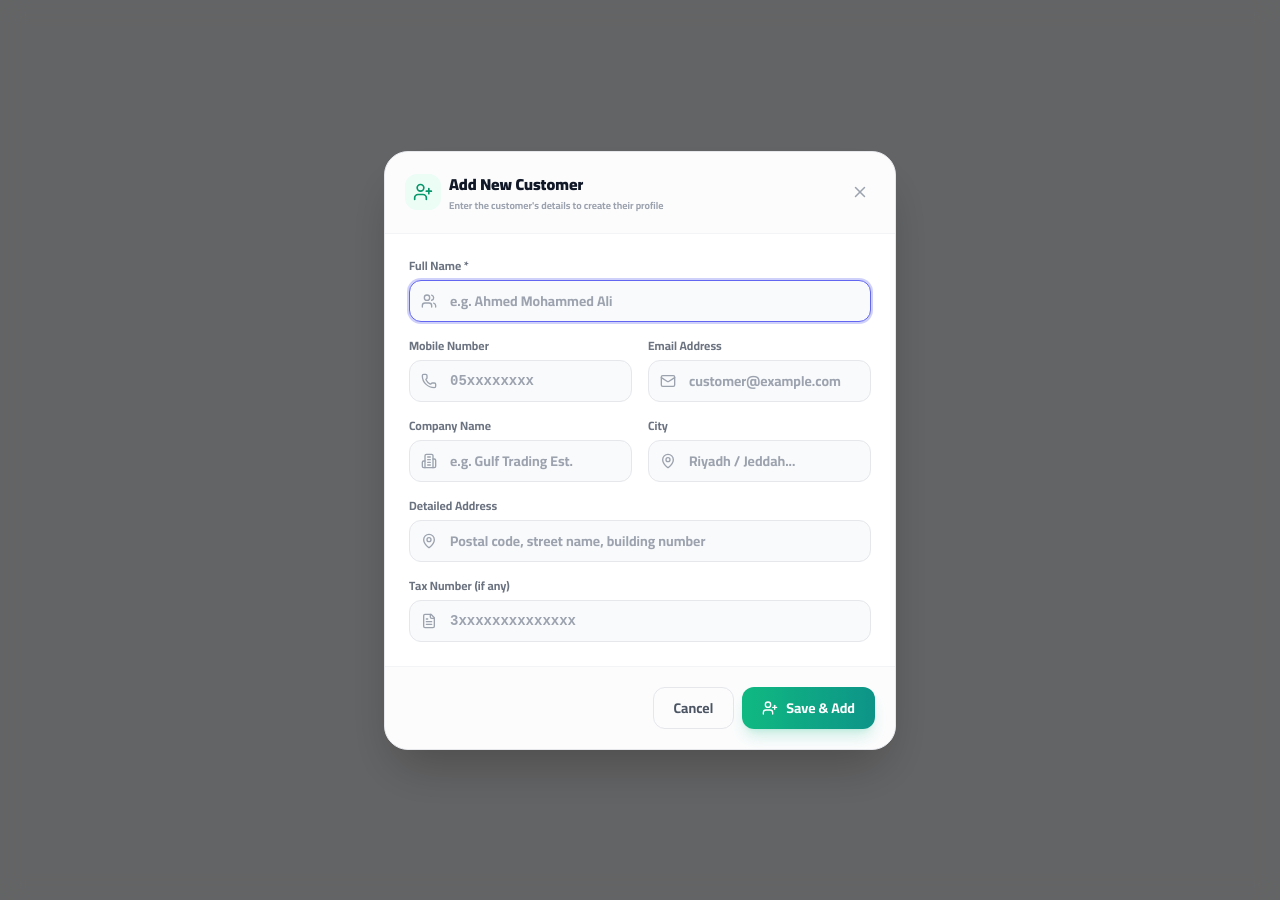
Test: QuickAddCustomerModal — the shared «إضافة عميل جديد» form › a Backend validation error on the e-mail is shown as the e-mail message (EN)
The width and height of the screenshot is (1280, 900).
Type "Elite" into the field with placeholder "e.g. Ahmed Mohammed Ali" at (640, 300), box [409, 280, 871, 322]
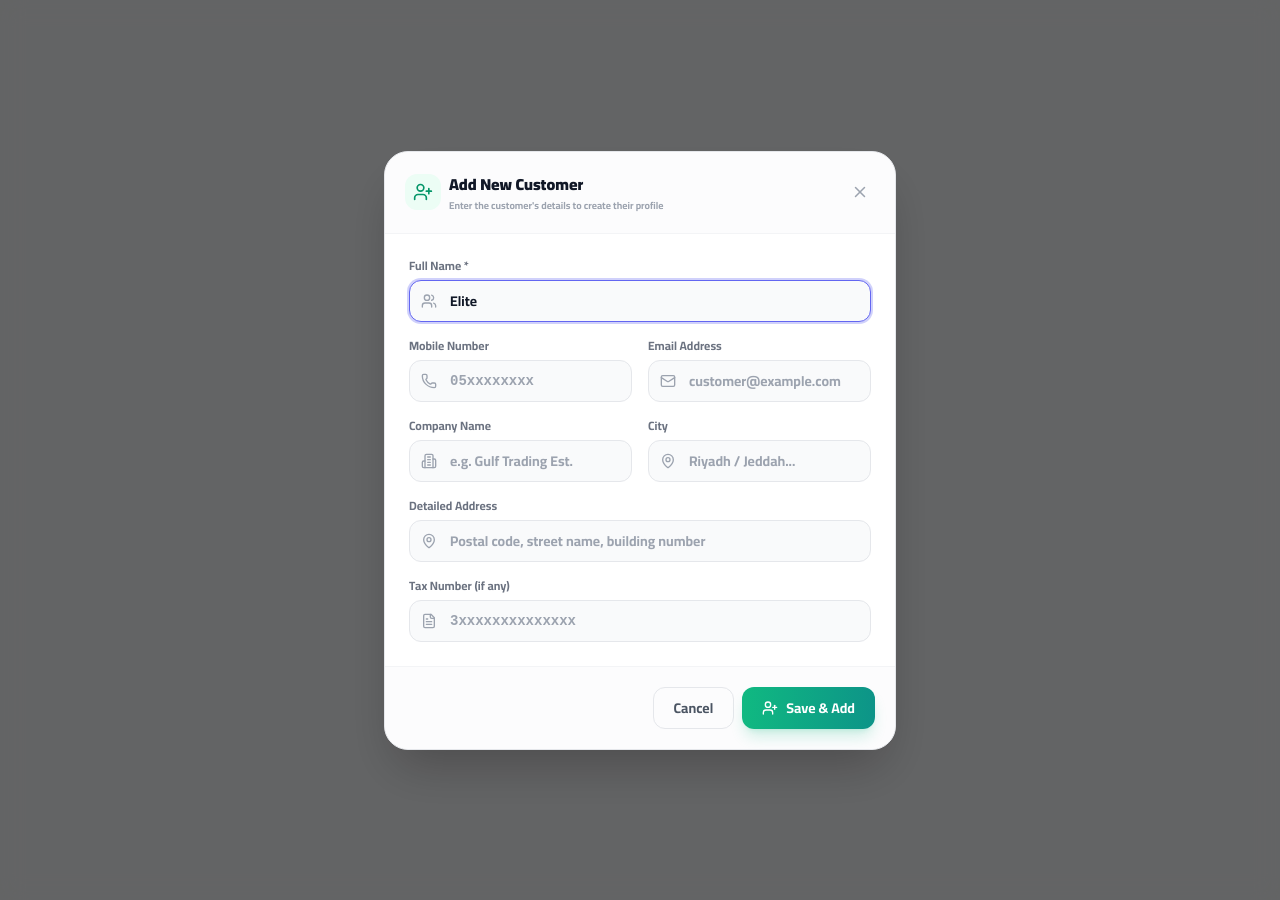
Type "a@b.co" into the field with placeholder "customer@example.com" at (760, 380), box [648, 360, 871, 402]
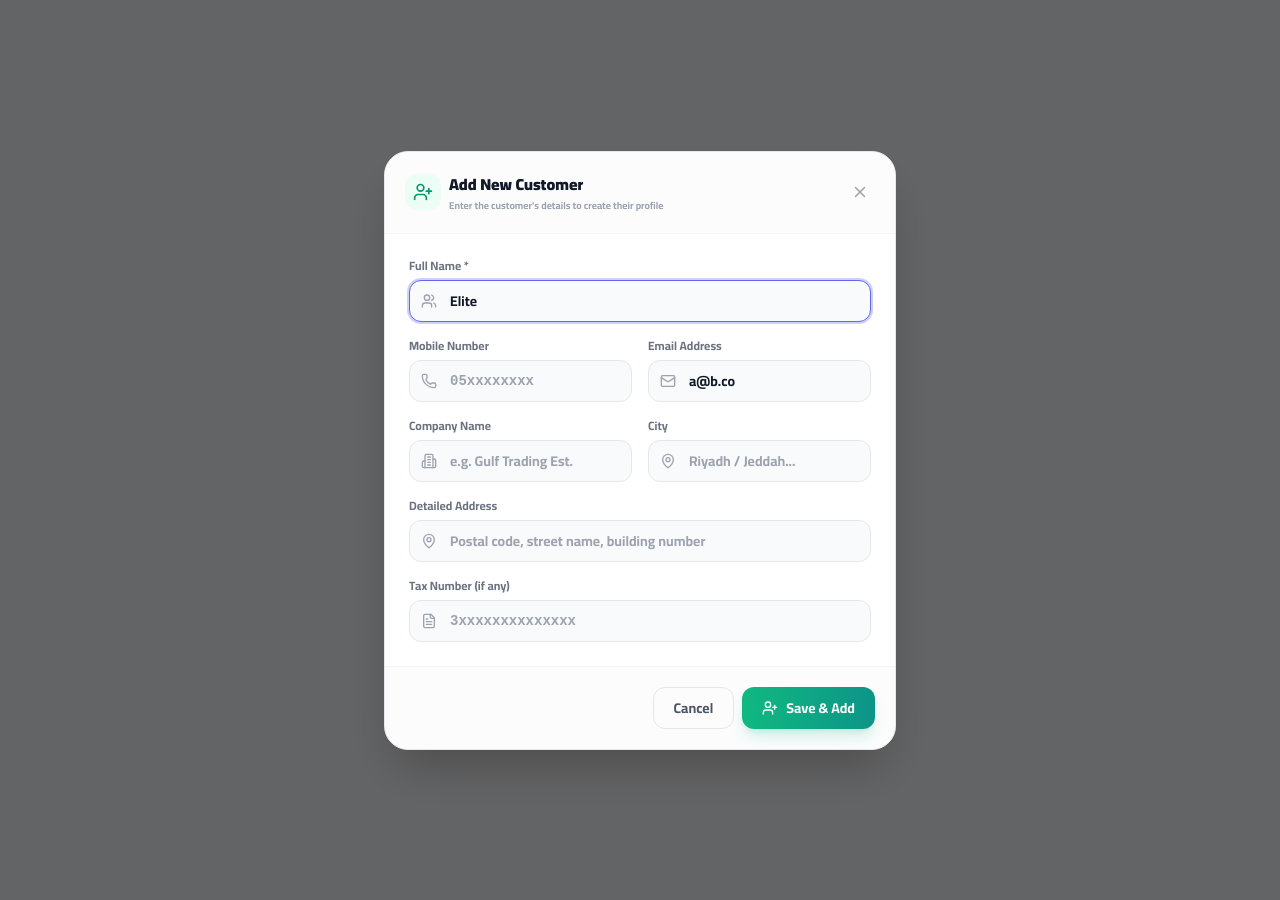
Click the button "Save & Add" at (809, 708), box [742, 686, 875, 728]
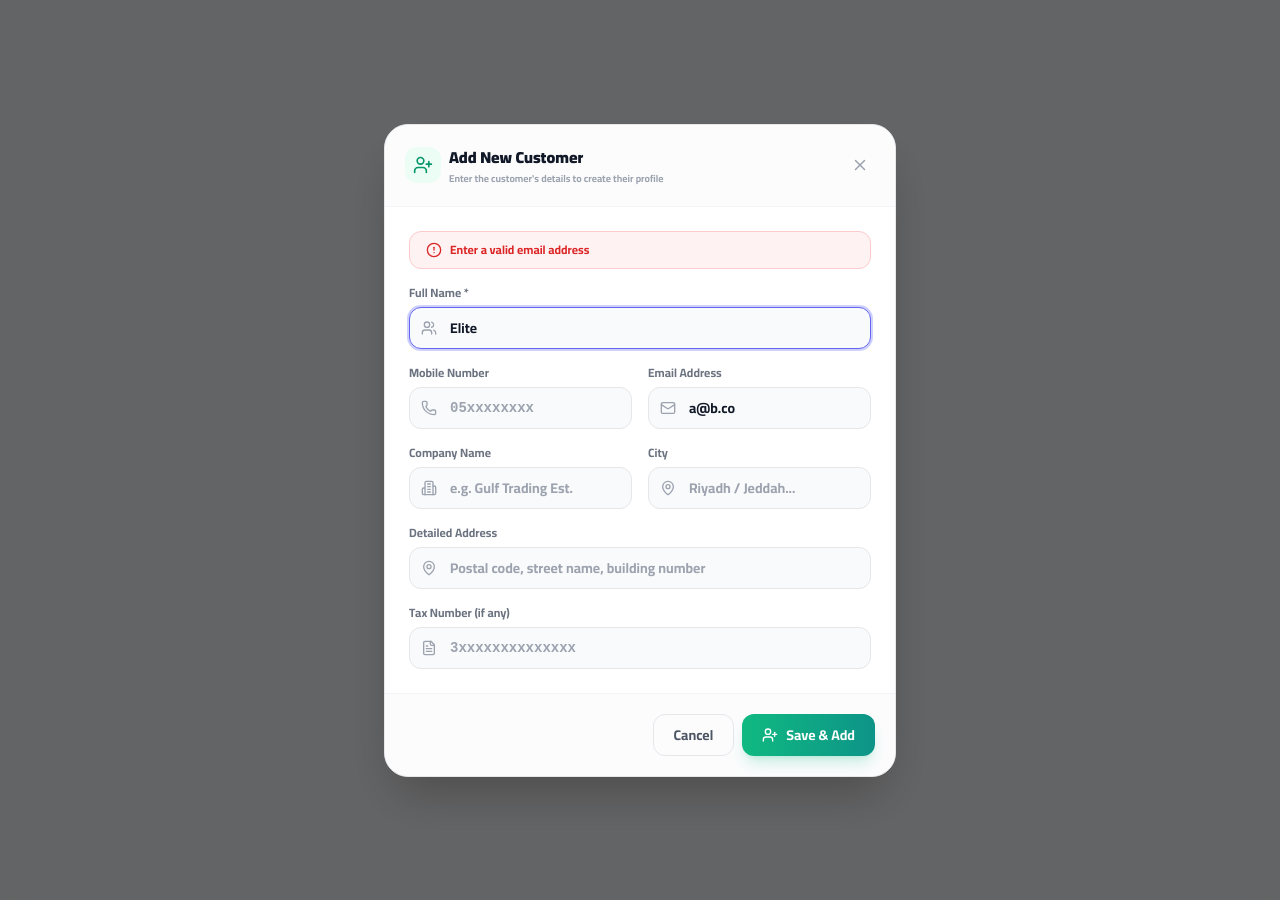
Expected: the message reads "Enter a valid email address", [450, 238, 590, 260]
